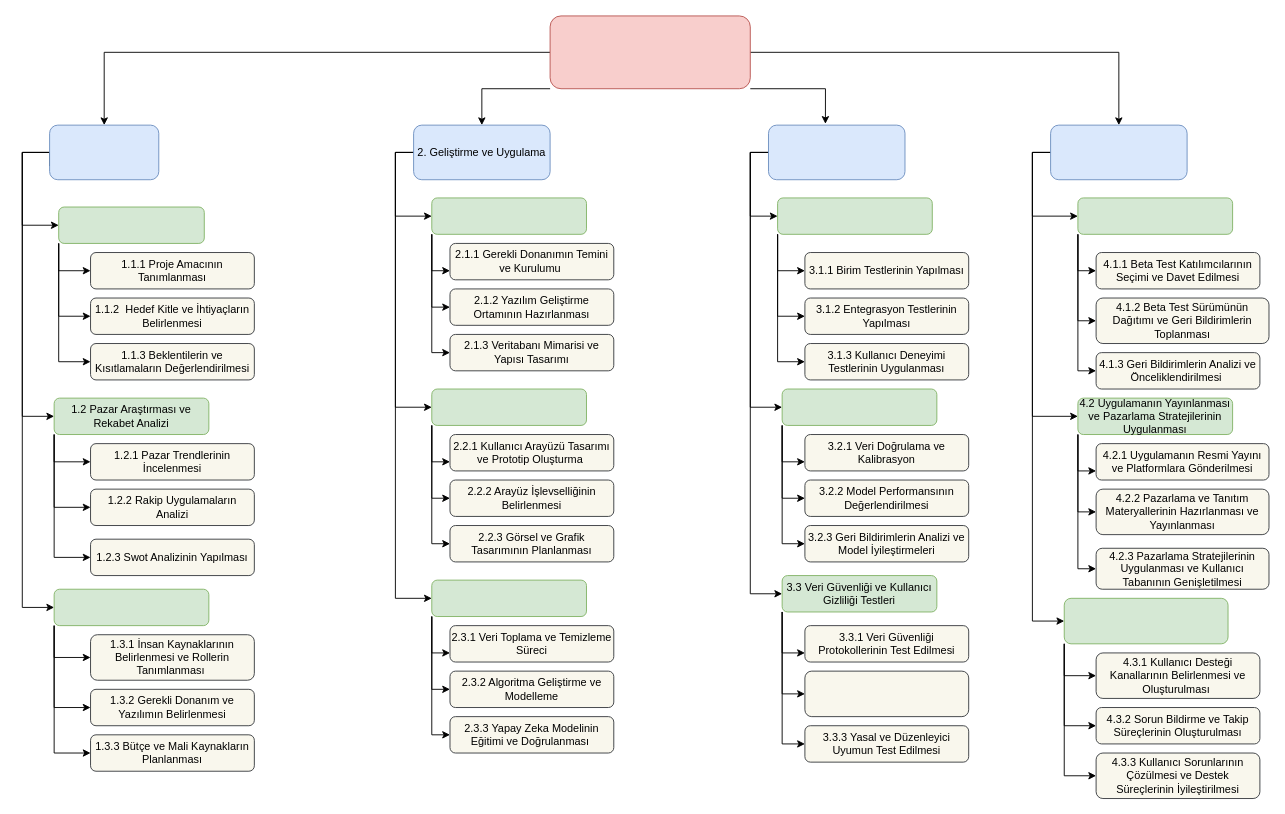
Image size: 1285x814. Some labels were removed from this diagram. Each missing label, with the centre of its shape:
"1.1 Proje Hedeflerinin Belirlenmesi" goes at point 131,224.
"1.3 Kaynakların Tahsisi ve Bütçenin Belirlenmesi" goes at point 131,607.
"1.Proje Başlangıcı ve Planlama" goes at point 104,152.
"2.1 Yazılım ve Donanım Altyapısının Kurulması" goes at point 508,215.
"2.2 Uygulama Arayüzünün Tasarımı" goes at point 508,406.
"2.3 Yapay Zeka Algoritmasının Geliştirilmesi" goes at point 508,598.
"3. Test ve Doğrulama" goes at point 836,152.
"3.1 Yazılım ve Arayüz Testleri" goes at point 854,215.
"3.2 Yapay Zeka Modelinin Doğrulanması" goes at point 859,406.
"3.3.2 Kullanıcı Verilerinin Korunması ve Gizliliğin Sağlanması" goes at point 886,693.
"4. Dağıtım ve Uygulama" goes at point 1118,152.
"4.1 Beta Test Aşaması ve Geri Bildirimlerin Değerlendirilmesi" goes at point 1155,215.
"4.3 Kullanıcı Desteği ve Sorun Giderme Süreçlerinin Oluşturulması" goes at point 1145,620.
"NeYemek?" goes at point 649,52.
